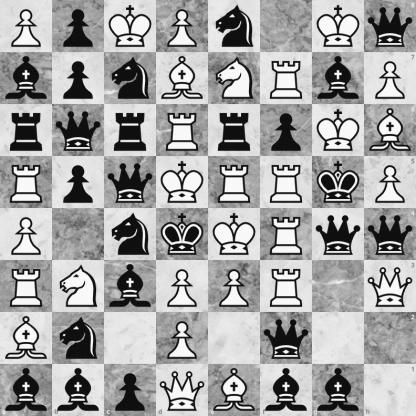B: (364, 104, 416, 156), (209, 364, 260, 416), (1, 313, 52, 364), (157, 53, 208, 104)
K: (105, 1, 156, 52), (157, 157, 208, 208), (209, 209, 260, 260), (313, 1, 364, 52), (313, 105, 364, 156)
N: (53, 261, 104, 312), (209, 53, 260, 104)
P: (364, 156, 416, 209), (364, 52, 416, 104), (1, 1, 52, 52), (1, 209, 52, 260), (157, 1, 208, 52), (157, 261, 208, 312), (157, 313, 208, 364), (209, 261, 260, 312)
Q: (156, 364, 209, 416), (364, 260, 416, 312)
R: (1, 157, 52, 208), (1, 261, 52, 312), (157, 105, 208, 156), (209, 157, 260, 208), (261, 53, 312, 104), (261, 157, 312, 208), (261, 209, 312, 260), (261, 261, 312, 312)
b: (0, 364, 52, 416), (52, 364, 104, 416), (260, 364, 312, 416), (312, 364, 364, 416), (1, 53, 52, 104), (105, 261, 156, 312), (313, 53, 364, 104)
board: (0, 0, 415, 415)
k: (157, 209, 208, 260), (313, 157, 364, 208)
n: (53, 313, 104, 364), (105, 53, 156, 104), (105, 209, 156, 260), (209, 1, 260, 52)
p: (104, 364, 156, 416), (53, 1, 104, 52), (53, 53, 104, 104), (53, 157, 104, 208), (261, 105, 312, 156)
q: (364, 0, 416, 52), (364, 209, 416, 260), (53, 105, 104, 156), (105, 157, 156, 208), (261, 313, 312, 364), (313, 209, 364, 260)
r: (1, 105, 52, 156), (105, 105, 156, 156), (209, 105, 260, 156)
